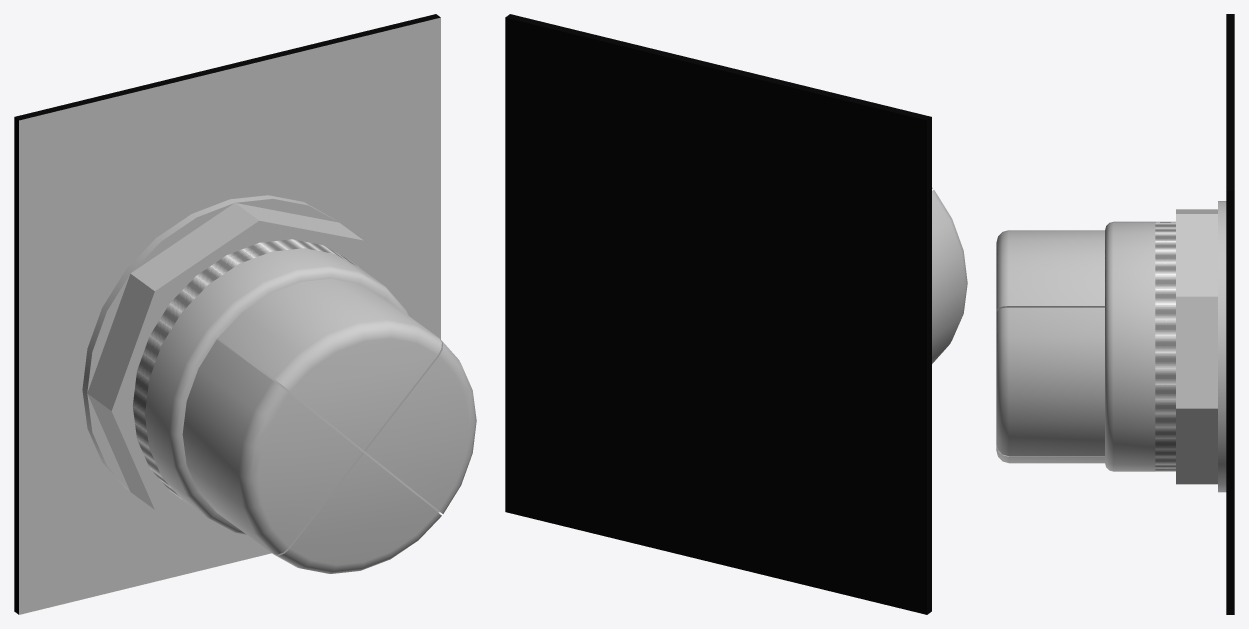
The model's file is pilot_light_4way.dae.
The picture shows the model from 3 angles, left to right: view 1: azimuth 30°, elevation 25°; view 2: azimuth 150°, elevation 25°; view 3: azimuth 270°, elevation 25°; orthographic projection. The views are drawn at different scales.
Visible parts, largest first — view 1: placard (×2), housing_nut, light4 (×2), light1 (×2), pilot_4way (×2), light3, light2; view 2: placard, light4; view 3: pilot_4way (×2), light2 (×2), housing_nut, light1 (×2), placard, light3.
Part boxes in pixels (x1=…): placard (×2): x1=14, y1=14, x2=440, y2=614; housing_nut: x1=82, y1=195, x2=382, y2=520; light4 (×2): x1=182, y1=339, x2=362, y2=554; light1 (×2): x1=218, y1=278, x2=441, y2=450; pilot_4way (×2): x1=132, y1=239, x2=408, y2=534; light3: x1=275, y1=453, x2=441, y2=573; light2: x1=365, y1=340, x2=476, y2=513; placard: x1=505, y1=14, x2=931, y2=614; light4: x1=932, y1=192, x2=965, y2=363; pilot_4way (×2): x1=1105, y1=221, x2=1175, y2=471; light2 (×2): x1=996, y1=307, x2=1104, y2=456; housing_nut: x1=1176, y1=201, x2=1226, y2=492; light1 (×2): x1=996, y1=230, x2=1104, y2=311; placard: x1=1226, y1=14, x2=1234, y2=614; light3: x1=996, y1=446, x2=1104, y2=463.
Bounding box in the file's own units: 1.97 × 1.12 × 2.2.
